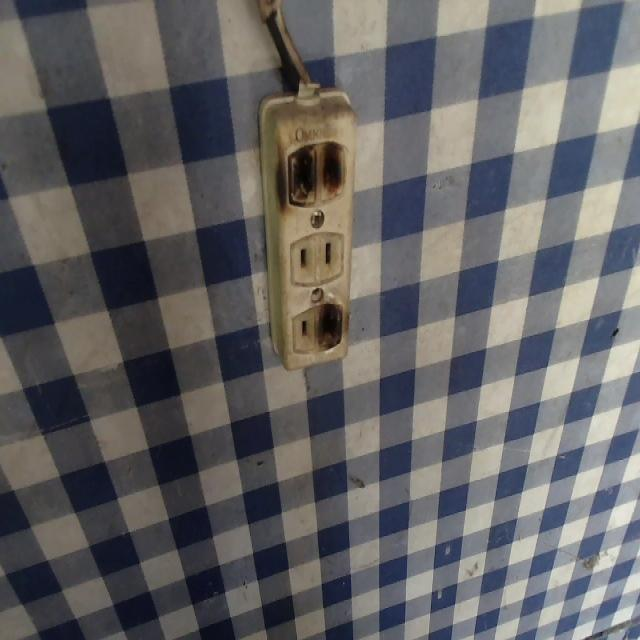-: (271, 133, 351, 215), (312, 293, 352, 356)
